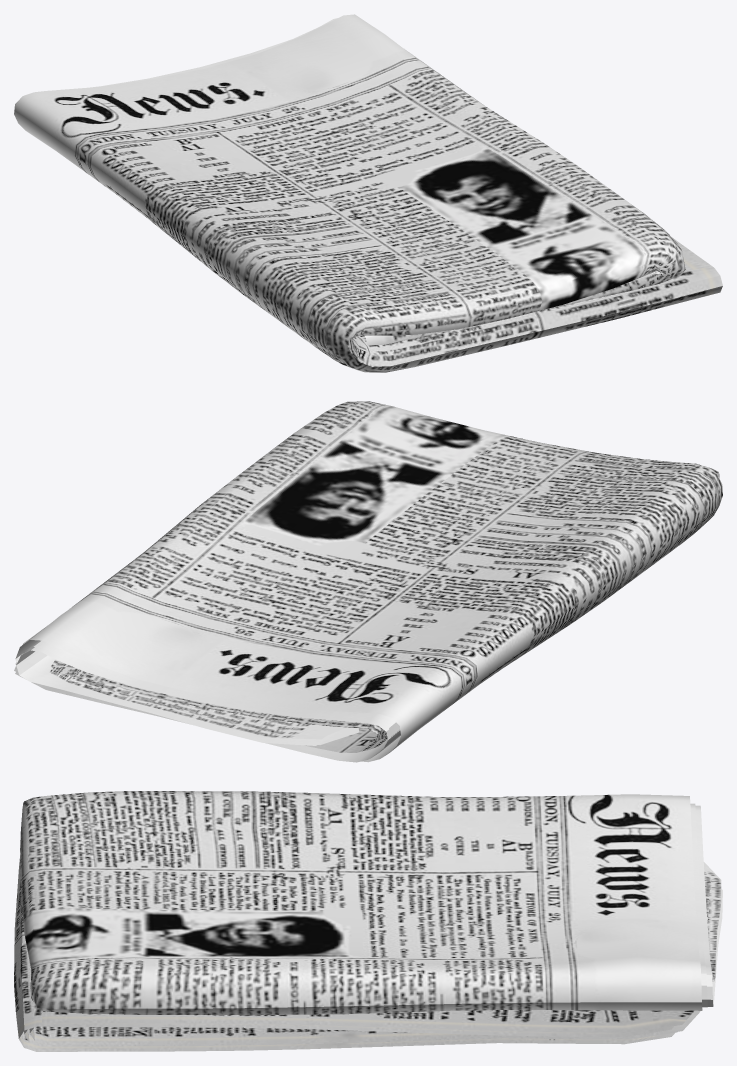
Rendered from Newspaper.FBX.
The picture shows the model from 3 angles, top to bottom: view 1: azimuth 30°, elevation 25°; view 2: azimuth 150°, elevation 25°; view 3: azimuth 270°, elevation 25°; orthographic projection. The views are drawn at different scales.
Parts seen in each view (by area): view 1: Newspaper; view 2: Newspaper; view 3: Newspaper.
Boxes of the visible parts, x1,y1,x2,y2 form: Newspaper: (14, 14, 722, 372); Newspaper: (14, 401, 722, 762); Newspaper: (14, 791, 722, 1051).
Bounding box in the file's own units: 20.34 × 3.42 × 30.6.
1 material, 1 textured.
